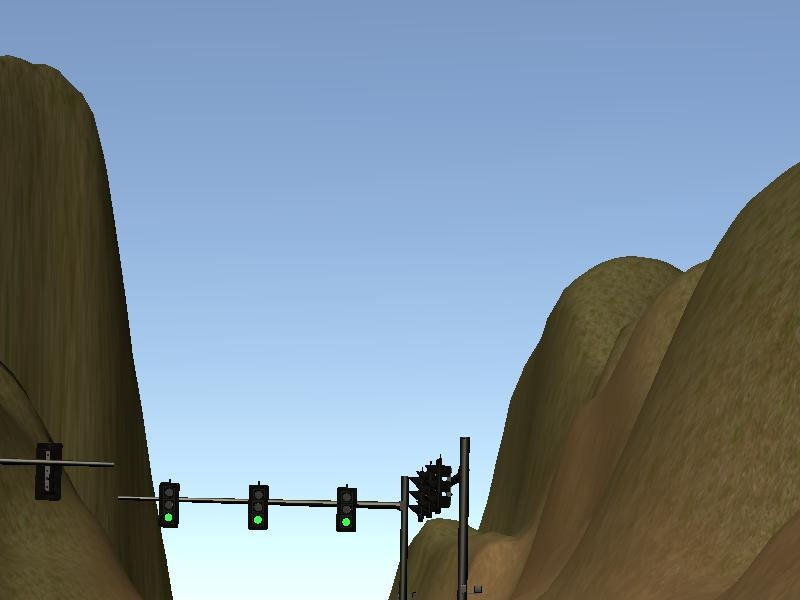green: (247, 484, 269, 529), (337, 486, 357, 532), (160, 481, 179, 527)
